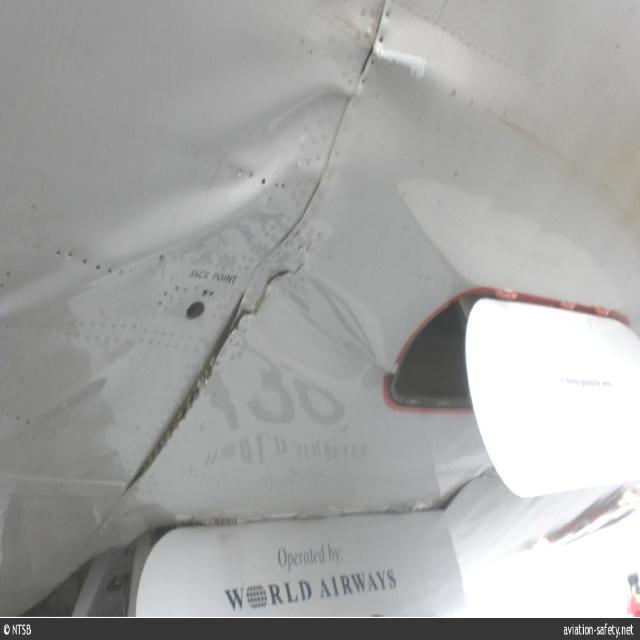crack: (228, 256, 308, 332)
